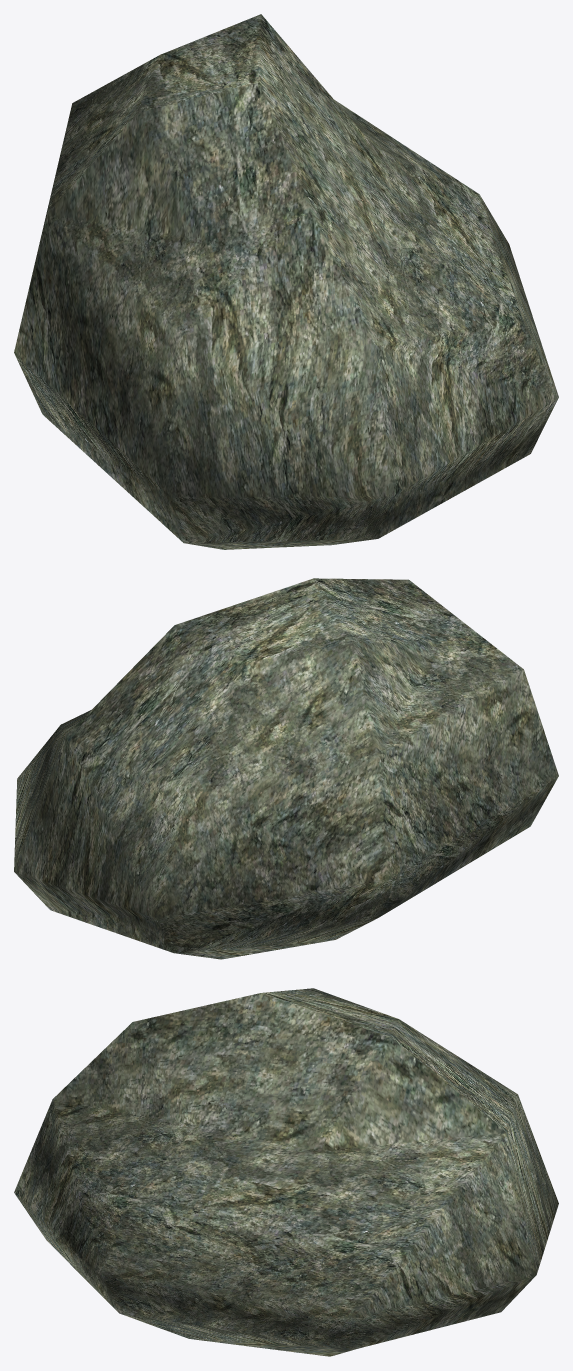
File: mtns_rock_grey_l0.fbx
3 views of the same model, one above another, from view 1: azimuth 30°, elevation 25°; view 2: azimuth 150°, elevation 25°; view 3: azimuth 270°, elevation 25° (orthographic). The views are drawn at different scales.
Visible parts, largest first — view 1: mesh_node; view 2: mesh_node; view 3: mesh_node.
Boxes of the visible parts, left/top/right/bottom form: mesh_node: left=14, top=14, right=558, bottom=549; mesh_node: left=14, top=578, right=558, bottom=959; mesh_node: left=14, top=988, right=558, bottom=1356.
Size of the model in its own units: 1.52 by 1.17 by 1.89.
1 material, 1 textured.
